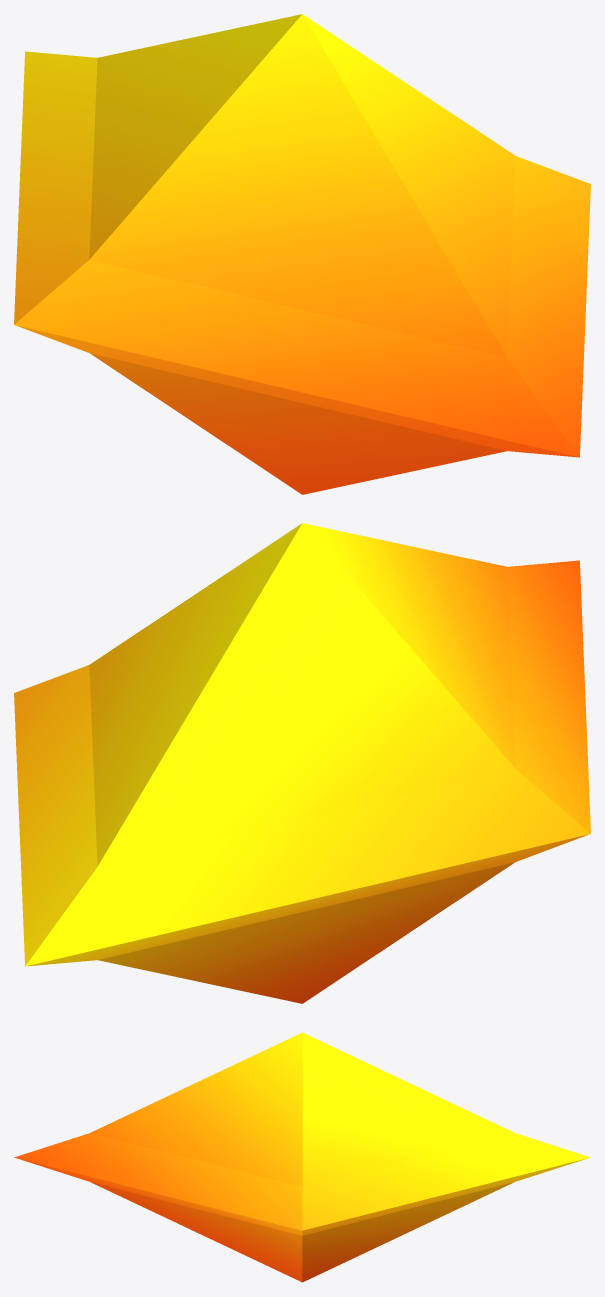
File: Gem.002.glb
3 renders of one model, top to bottom at view 1: azimuth 30°, elevation 25°; view 2: azimuth 150°, elevation 25°; view 3: azimuth 270°, elevation 25°, orthographic. The views are drawn at different scales.
Visible parts, largest first — view 1: Gem.002; view 2: Gem.002; view 3: Gem.002.
Part boxes in pixels (x1,y1,x2,y2): Gem.002: (14, 14, 590, 494); Gem.002: (14, 523, 590, 1003); Gem.002: (14, 1032, 590, 1282).
Size of what is drawn, in the model's own units: 0.235 by 0.1872 by 0.3914.
Materials: 1 (1 with a texture image).
